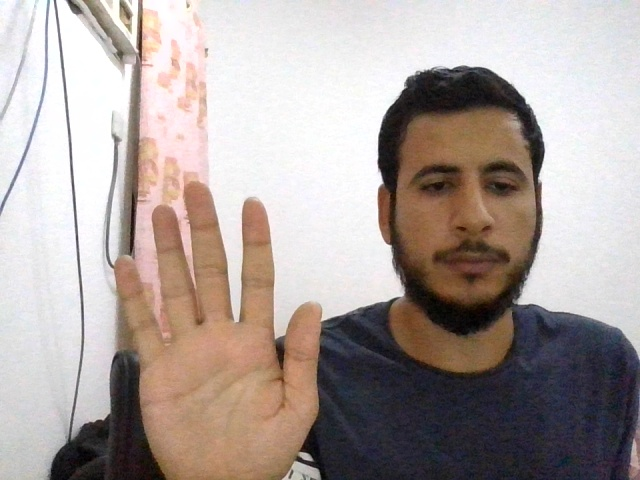Five: (114, 182, 324, 475)
